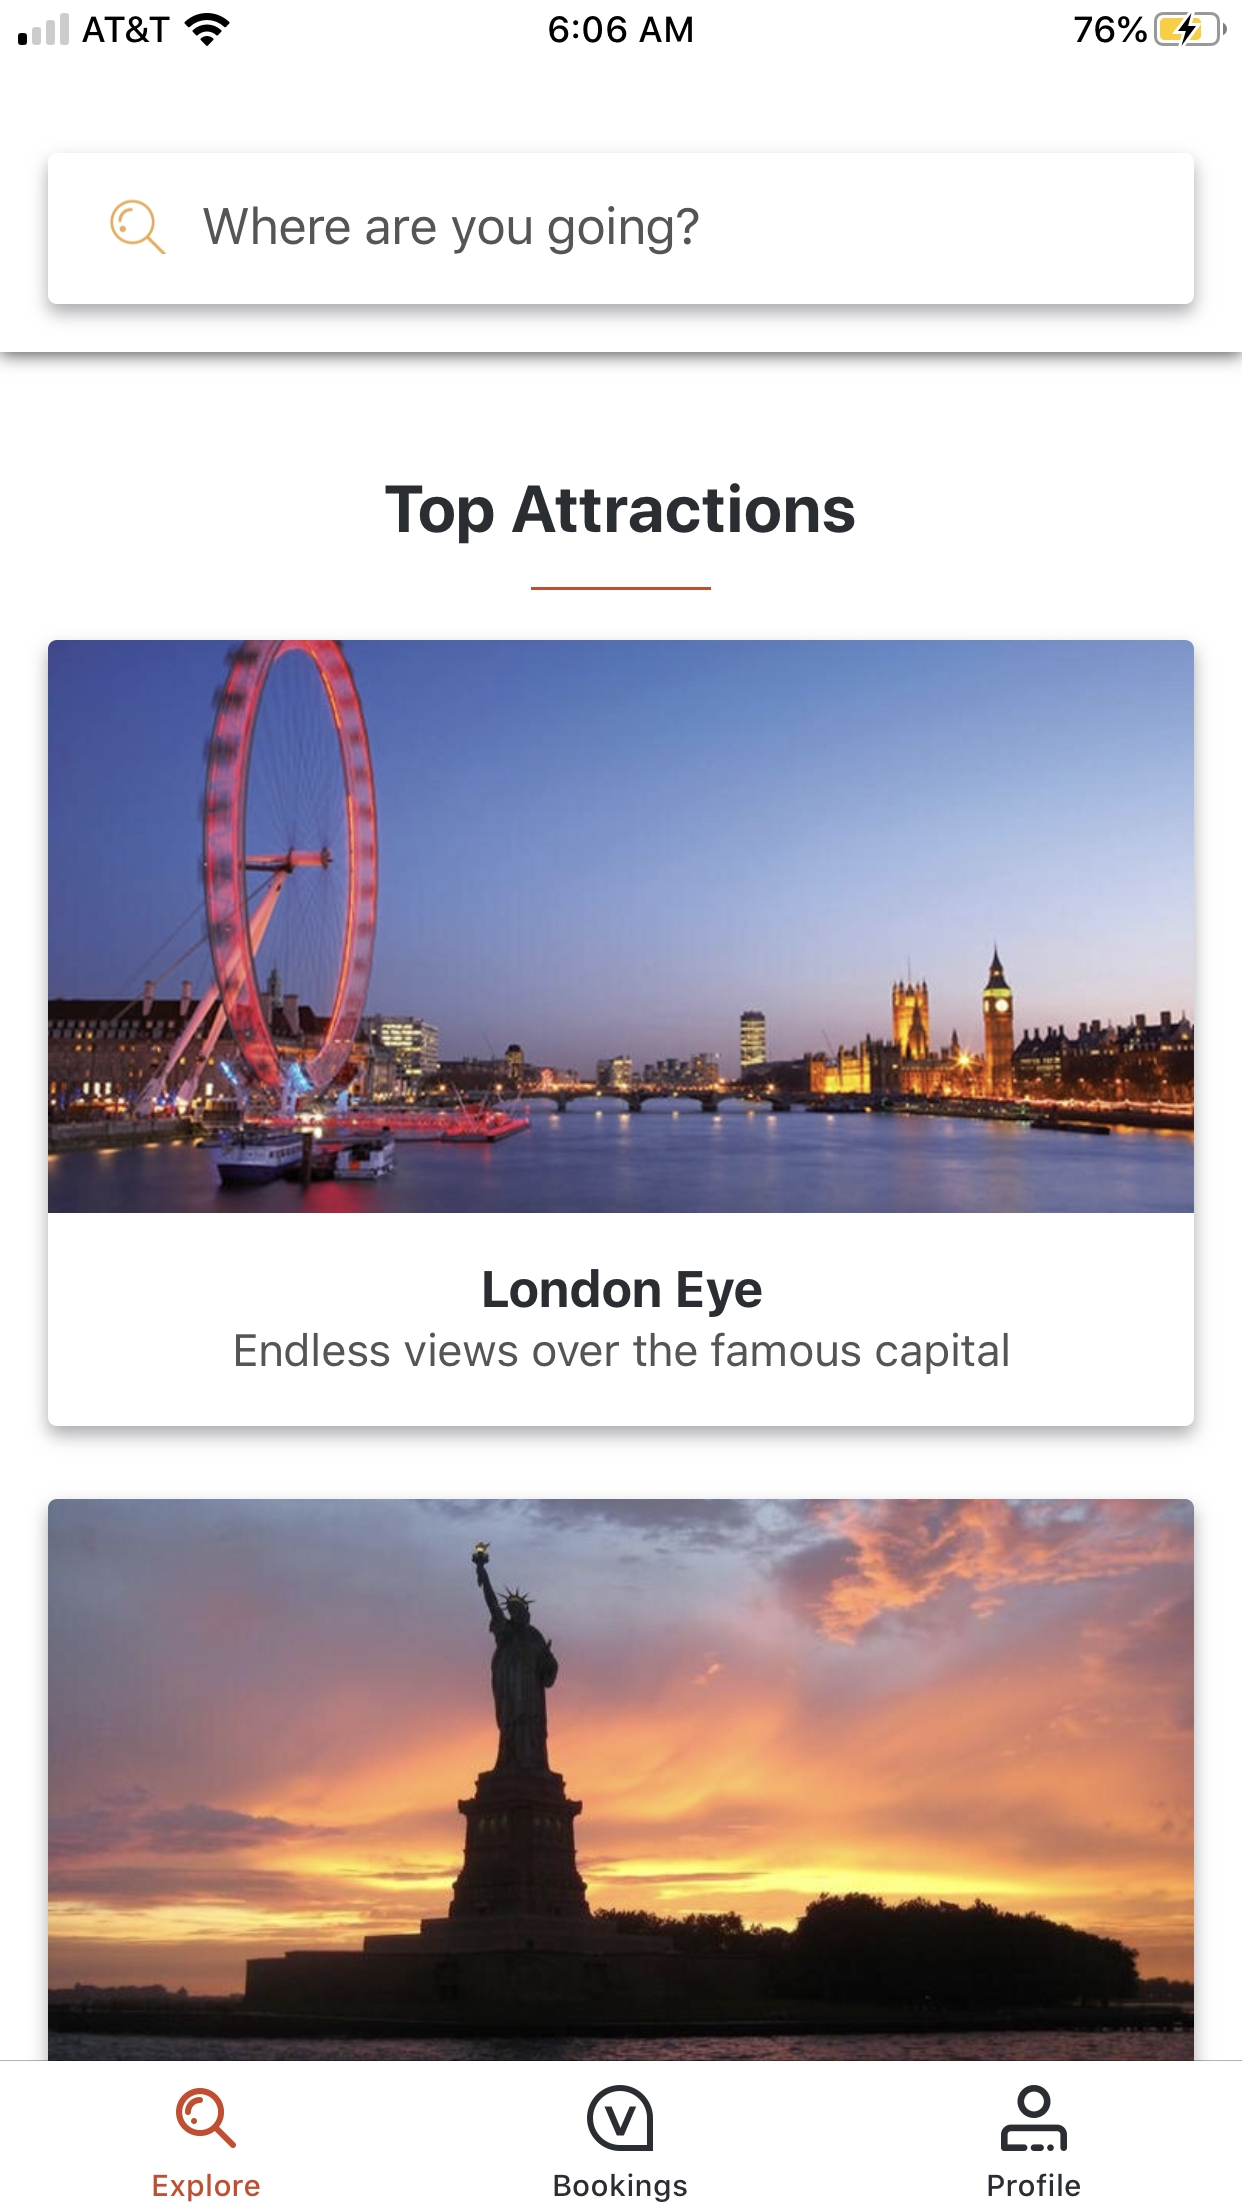EditText: (49, 155, 1193, 305)
Icon: (999, 2084, 1068, 2152), (176, 2087, 238, 2149), (111, 200, 167, 255)
Image: (49, 640, 1195, 1215), (49, 1498, 1195, 2061), (587, 2084, 655, 2152)
Text: (237, 1331, 1010, 1375), (387, 482, 855, 544), (205, 206, 701, 256), (484, 1269, 763, 1319), (554, 2172, 688, 2203), (155, 2172, 262, 2202), (987, 2172, 1081, 2197)
UpperTaskBar: (2, 2, 1242, 52)
